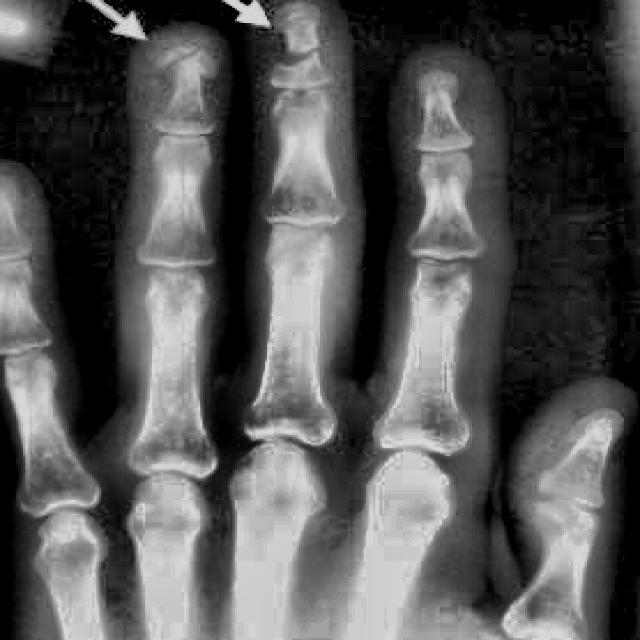fracture: (154, 46, 212, 80), (274, 44, 322, 71)
